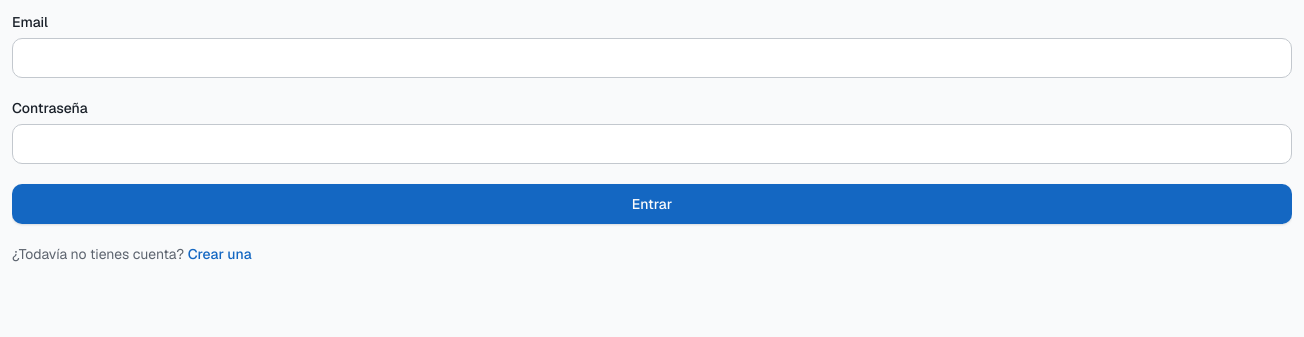
CredentialsForm › muestra el error de campo que devuelve la API
Type "ana@example.test" into the field labelled "Email".
click(652, 58); type("ana@example.test")  # box [12, 38, 1292, 78]
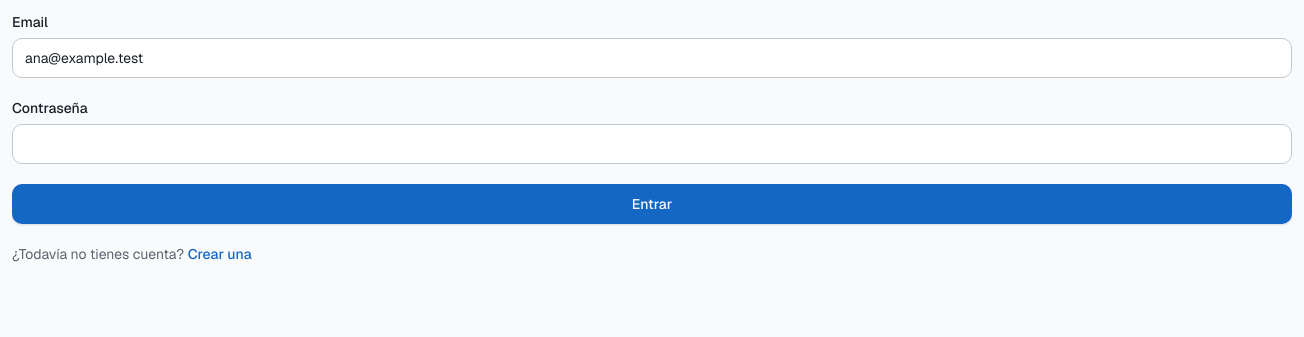
Type "mal" into the password field labelled "Contraseña".
click(652, 144); type("mal")  # box [12, 124, 1292, 164]
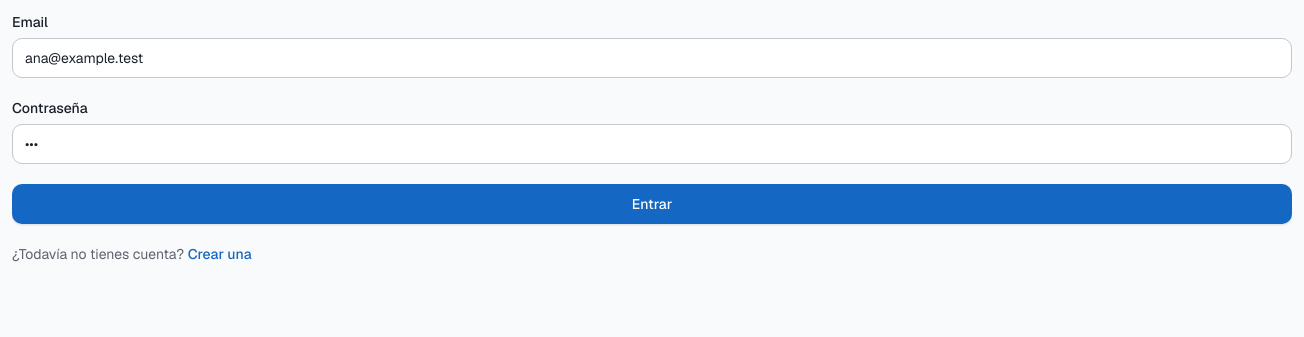
Click the button "Entrar".
click(652, 204)  # box [12, 184, 1292, 224]
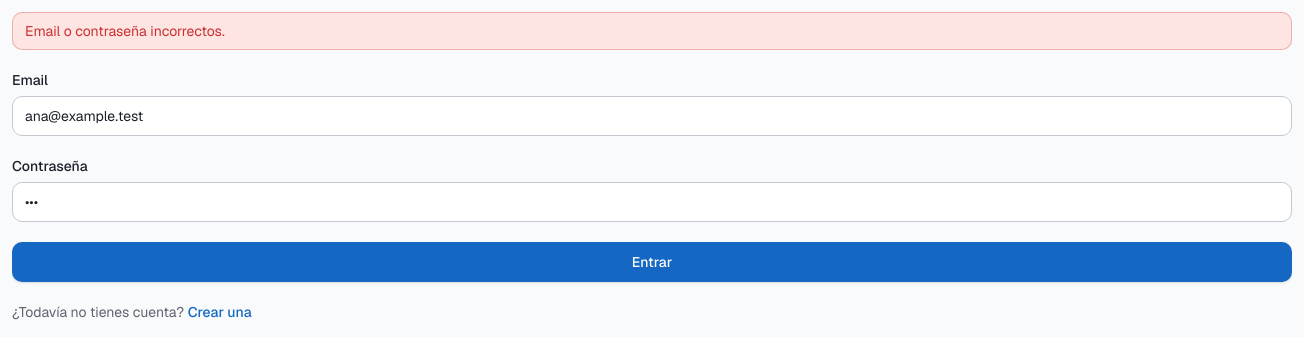
Expected: the text "Email o contraseña incorrectos." is shown, [12, 12, 1292, 50]
